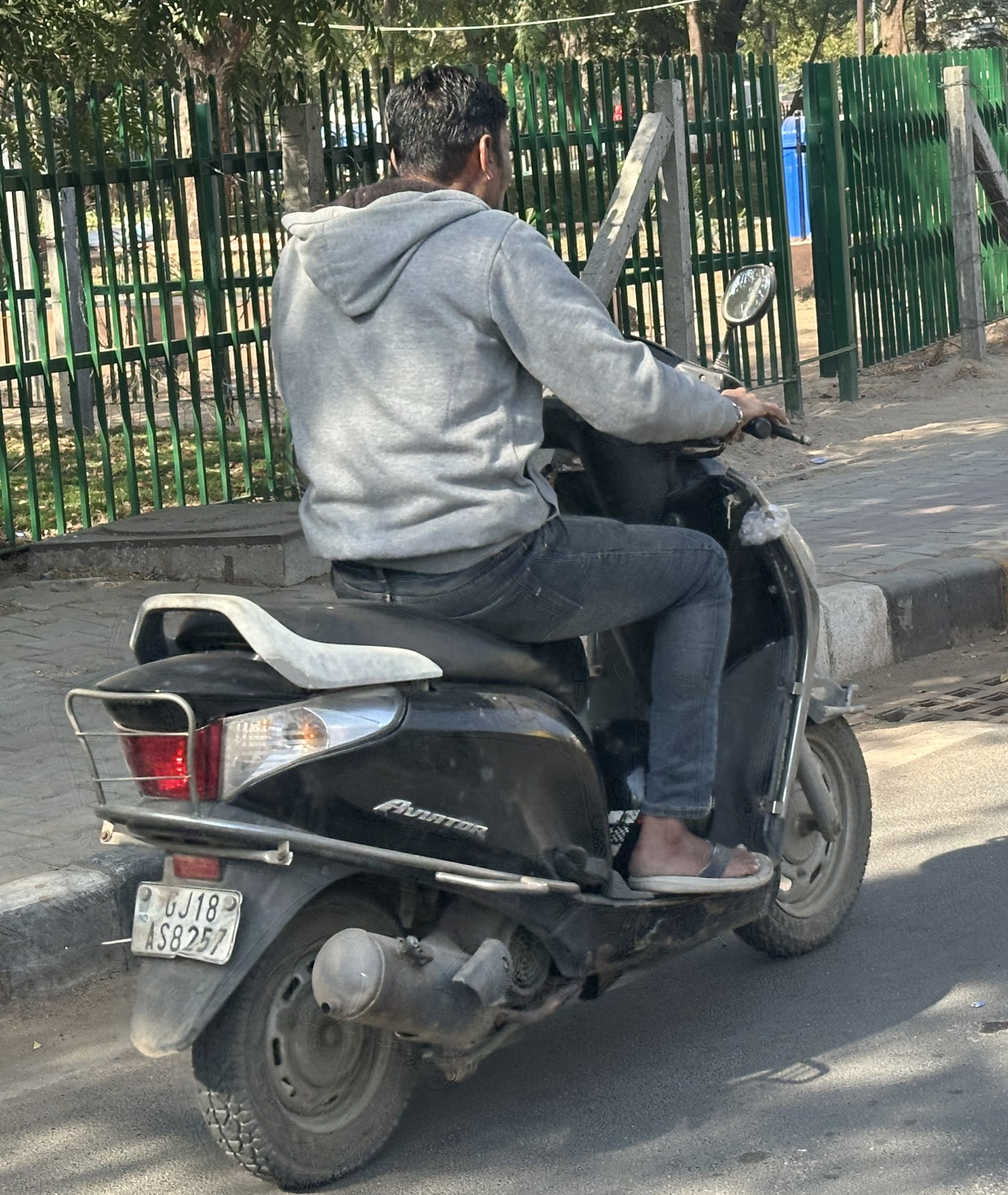BikeWithRider: (47, 48, 896, 1192)
NoHelmet: (362, 52, 530, 217)
